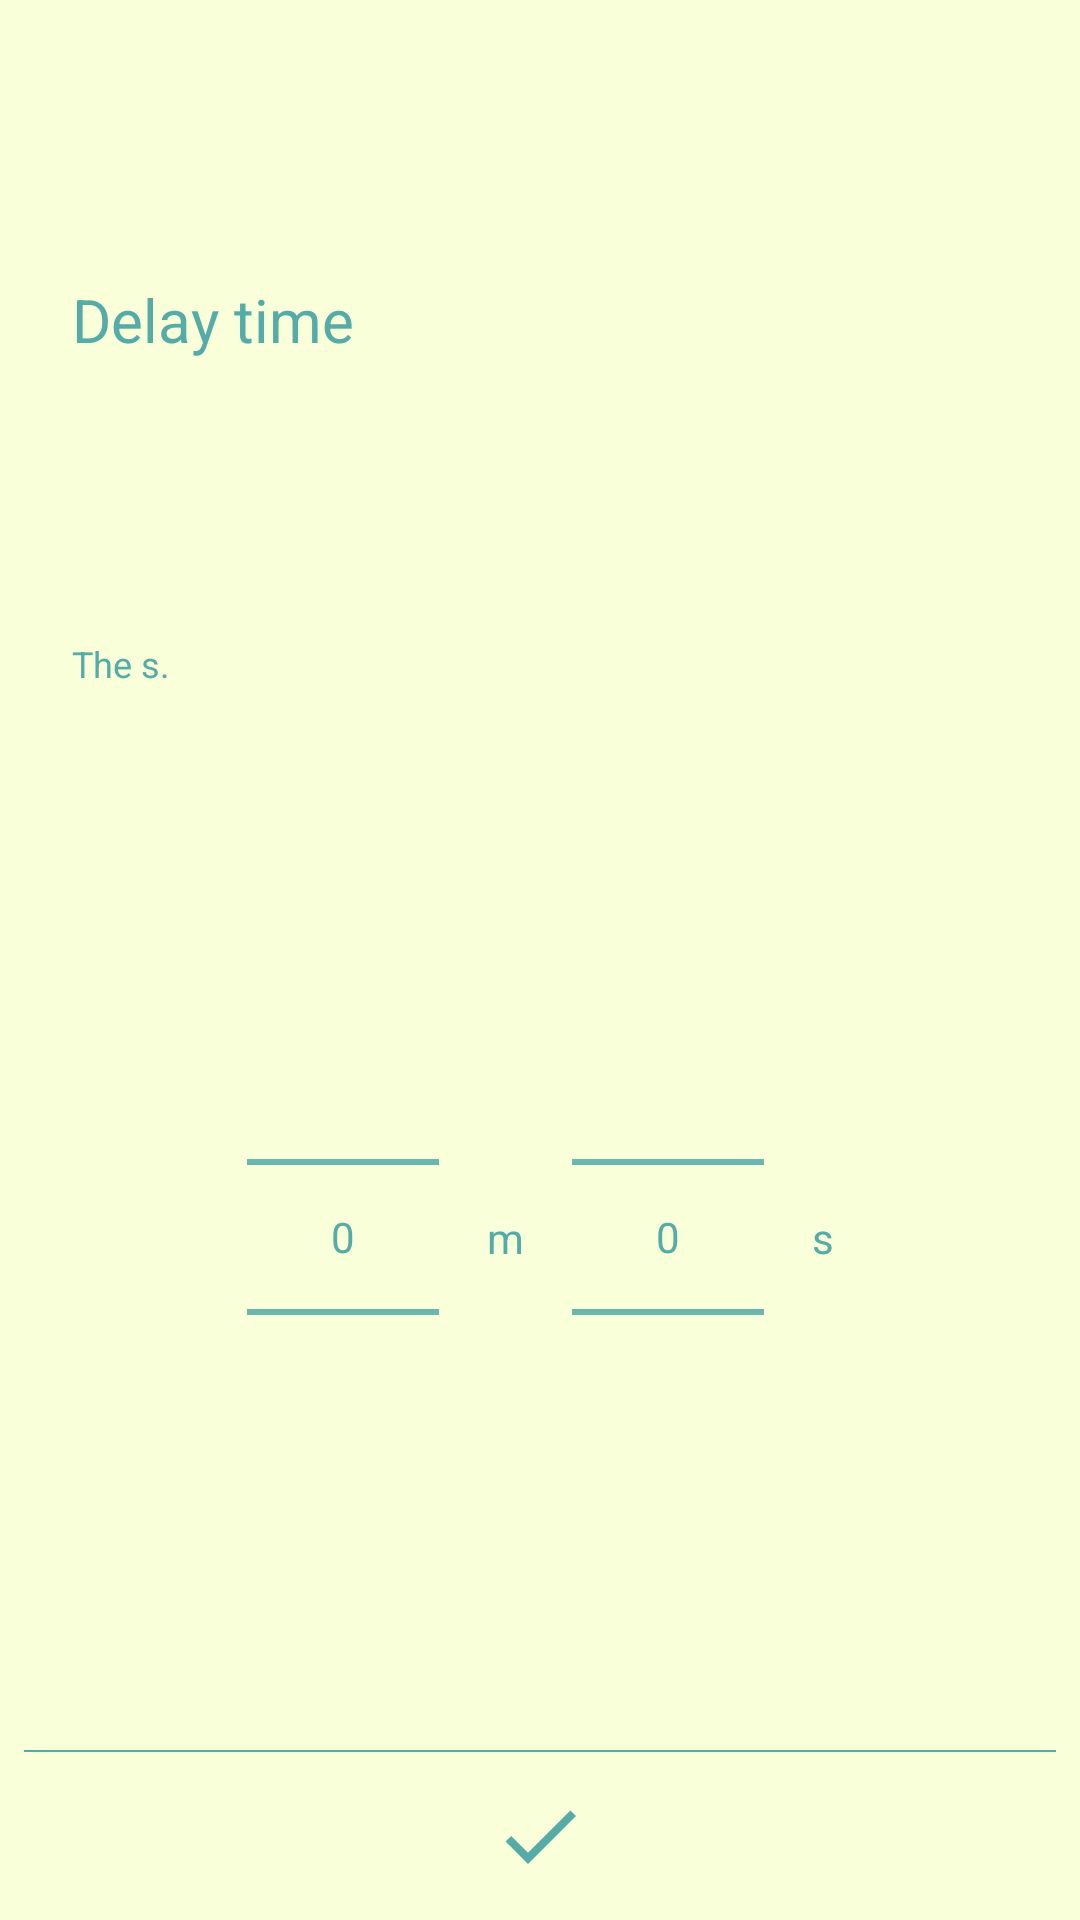

Screen size 1080×1920. Icon name, then its center in pixels as (x,y):
check main: (541,1837)
